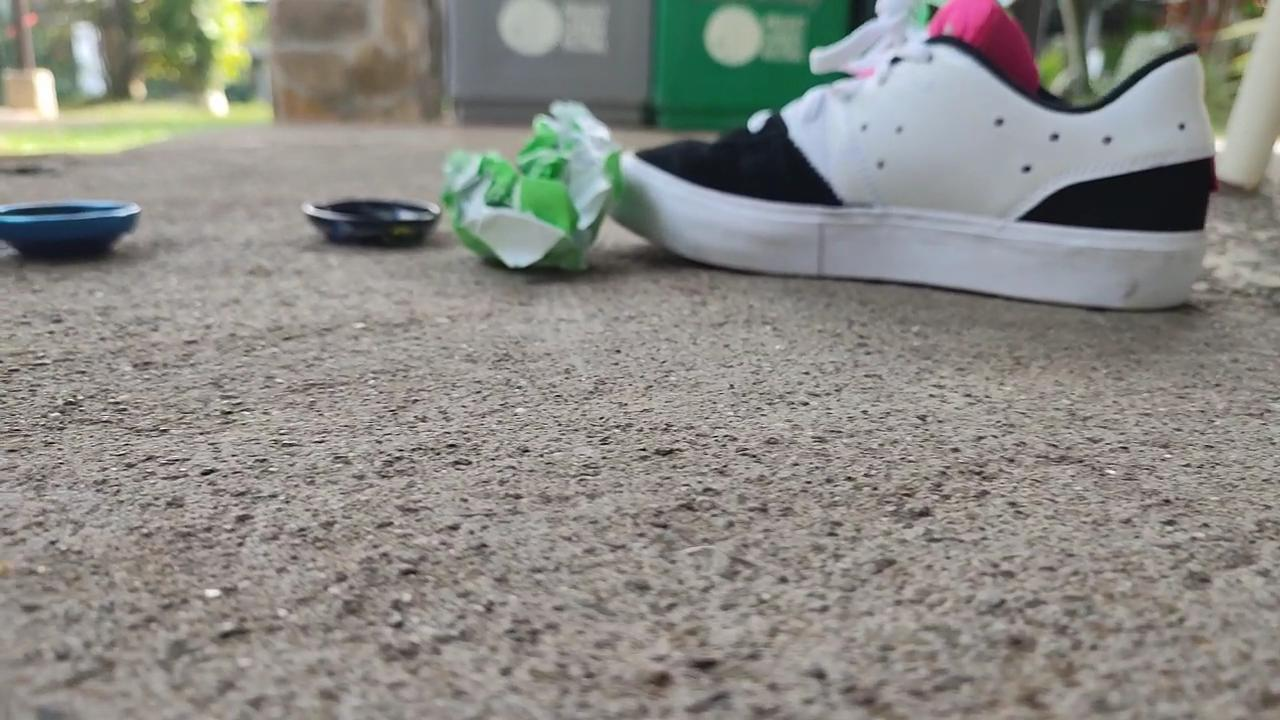Paper: (429, 80, 632, 285)
